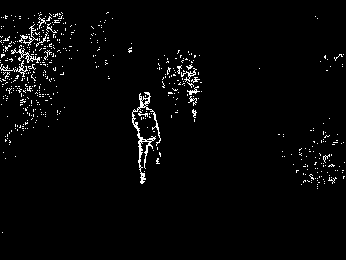person: (132, 90, 165, 186)
